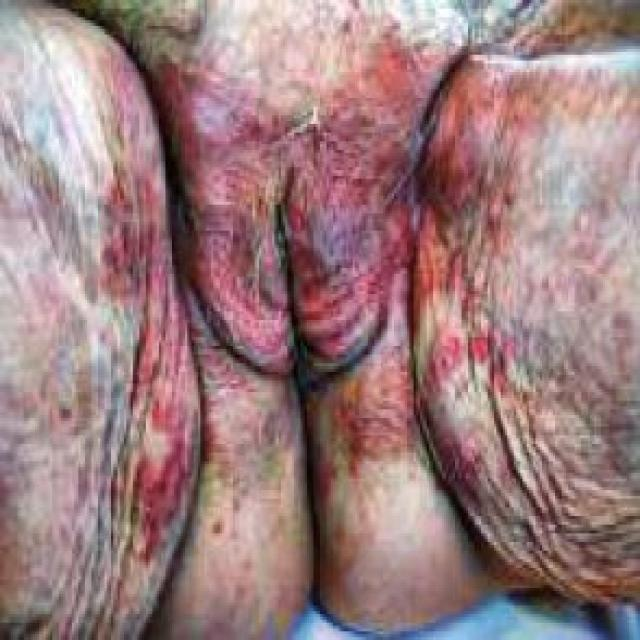Tinea Ringworm Candidiasis and other Fungal Infections: (65, 50, 578, 569)
